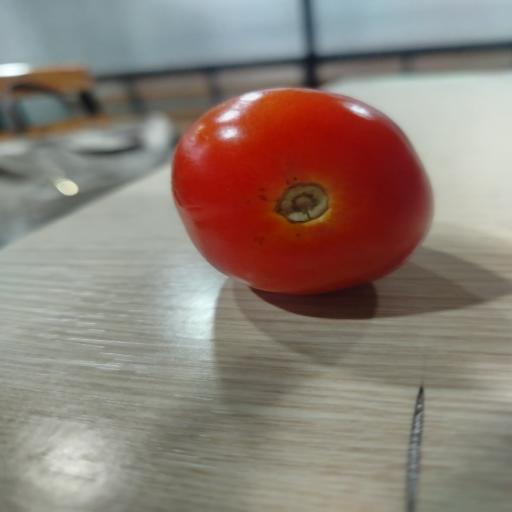ripe: (172, 88, 432, 294)
